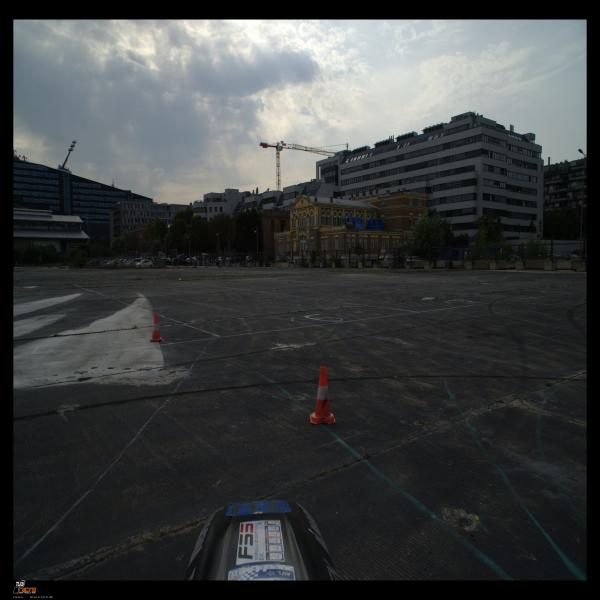orange_cone: (310, 366, 335, 424), (148, 314, 165, 342)
